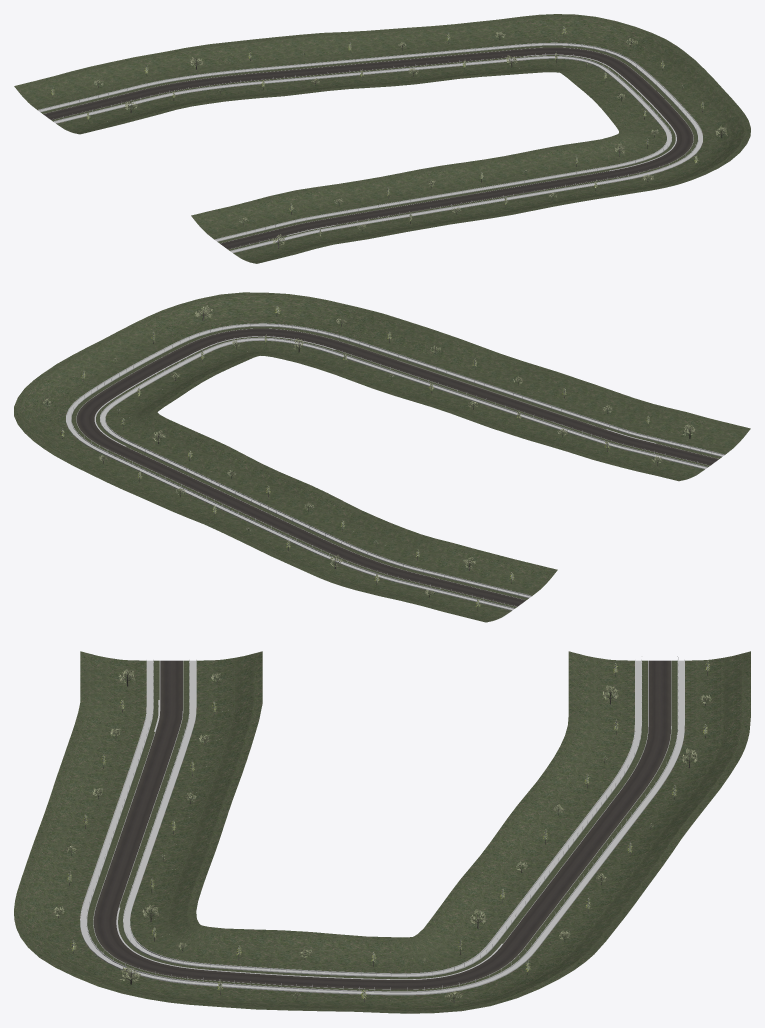
3 renders of one model, top to bottom at view 1: azimuth 30°, elevation 25°; view 2: azimuth 150°, elevation 25°; view 3: azimuth 270°, elevation 25°, orthographic. The views are drawn at different scales.
Visible parts, largest first — view 1: Grass, Road, Track, Trees; view 2: Grass, Road, Track, Trees; view 3: Grass, Road, Track, Trees.
Part boxes in pixels (x1,y1,x2,y2): Grass: (14,14,750,263); Road: (43,47,693,249); Track: (38,42,702,252); Trees: (51,26,727,248); Grass: (14,292,750,622); Road: (76,328,718,606); Track: (66,323,724,610); Trees: (42,305,695,610); Grass: (14,651,750,1013); Road: (93,660,671,989); Track: (80,656,684,995); Trees: (54,660,711,1002).
Bounding box in the file's own units: 65891 × 1702 × 56596.
